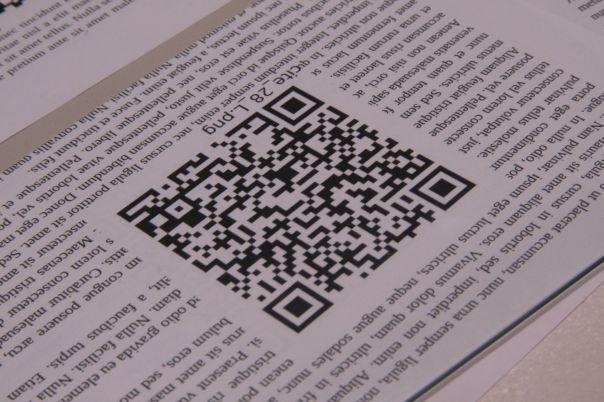qr_code: (116, 85, 477, 334)
